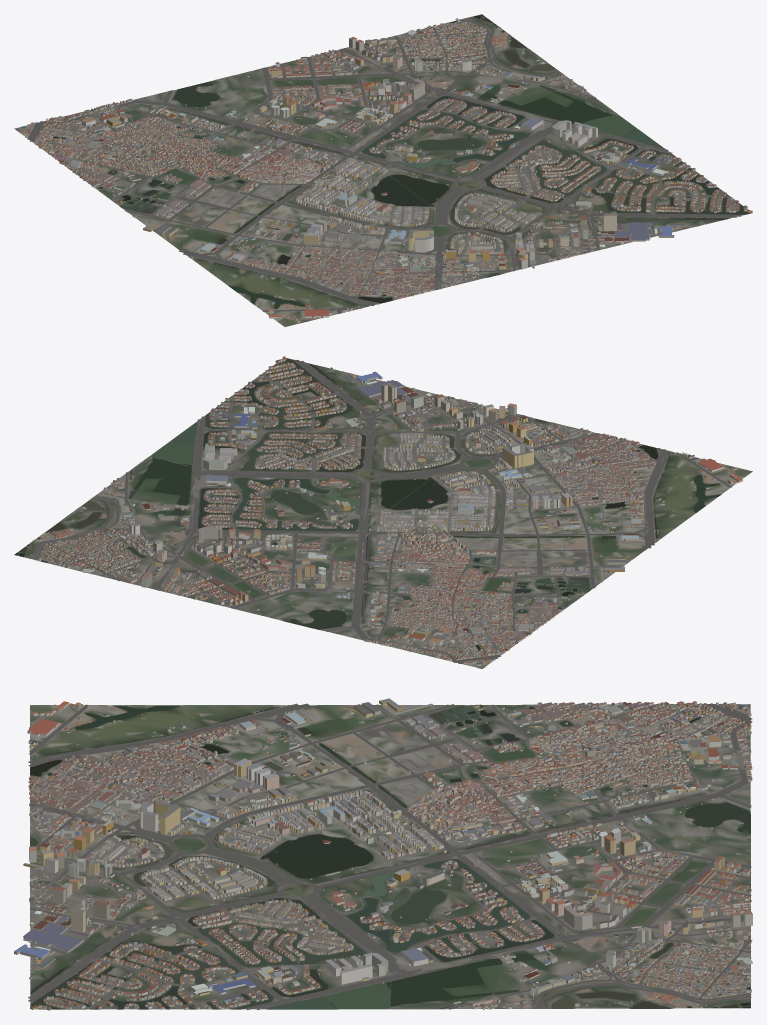
3 views of the same model, one above another, from view 1: azimuth 30°, elevation 25°; view 2: azimuth 150°, elevation 25°; view 3: azimuth 270°, elevation 25° (orthographic). The views are drawn at different scales.
Visible parts, largest first — view 1: ground, buildings, roads, water; view 2: ground, buildings, roads, water; view 3: ground, buildings, roads, water.
Part boxes in pixels (<box>): ground: <box>14,15,752,326</box>; buildings: <box>19,18,752,322</box>; roads: <box>27,18,741,313</box>; water: <box>53,14,750,308</box>; ground: <box>14,358,752,668</box>; buildings: <box>32,356,742,665</box>; roads: <box>30,360,731,663</box>; water: <box>14,358,721,650</box>; ground: <box>30,704,750,1009</box>; buildings: <box>14,698,752,1010</box>; roads: <box>28,703,752,1009</box>; water: <box>30,705,750,1009</box>.
Size of the model in its own units: 2851 by 92.99 by 2875.
